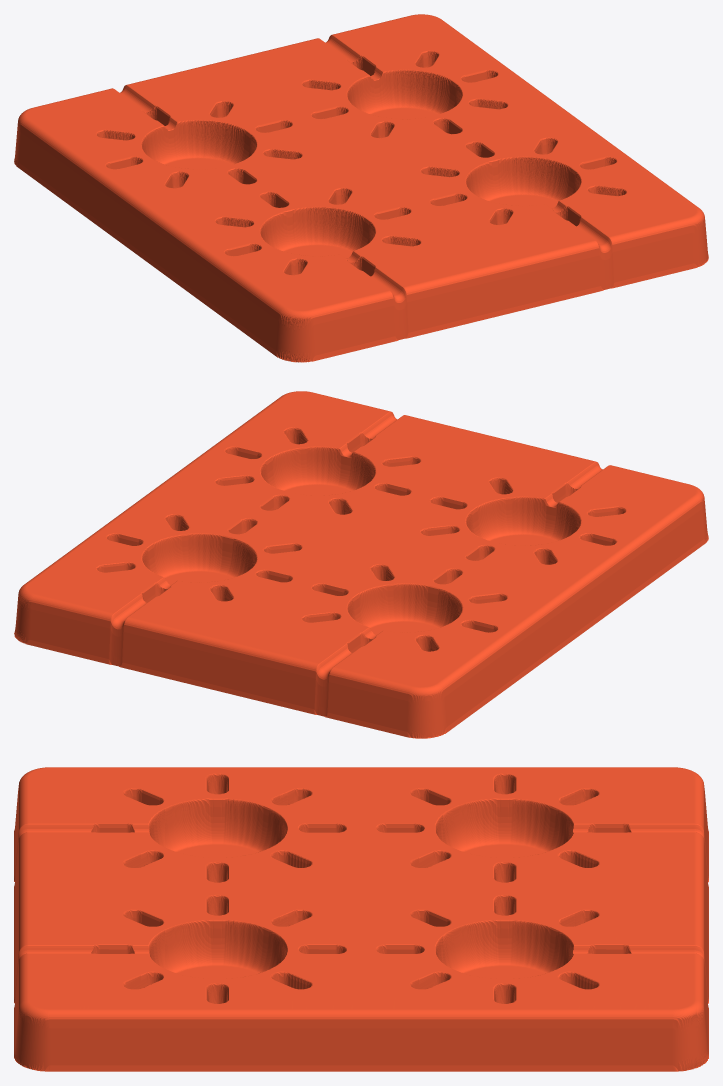
The model's file is mold.glb.
3 views of the same model, one above another, from view 1: azimuth 30°, elevation 25°; view 2: azimuth 150°, elevation 25°; view 3: azimuth 270°, elevation 25° (orthographic). The views are drawn at different scales.
Parts seen in each view (by area): view 1: geometry_0; view 2: geometry_0; view 3: geometry_0.
Part boxes in pixels (x1,y1,x2,y2): geometry_0: [14, 14, 708, 362]; geometry_0: [14, 391, 708, 738]; geometry_0: [14, 767, 708, 1071].
Bounding box in the file's own units: 0.1497 × 0.0155 × 0.1735.
